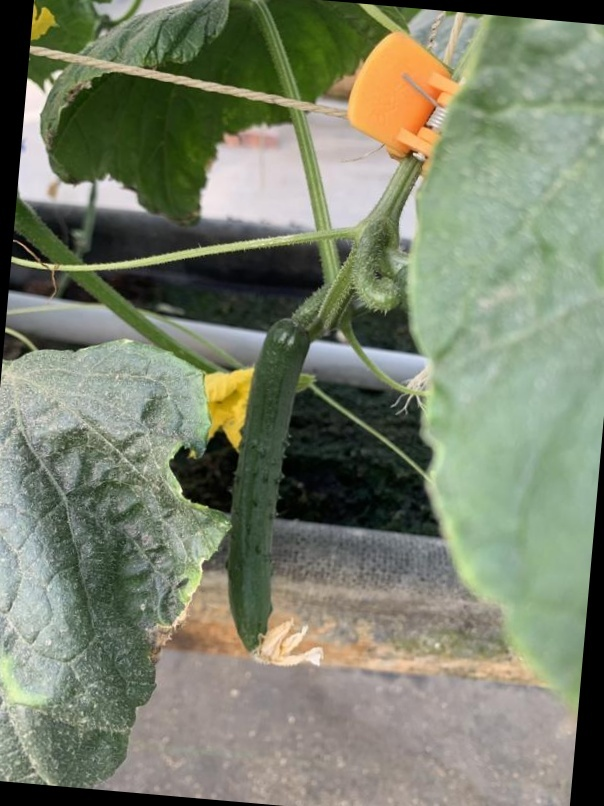mature: (218, 317, 312, 674)
